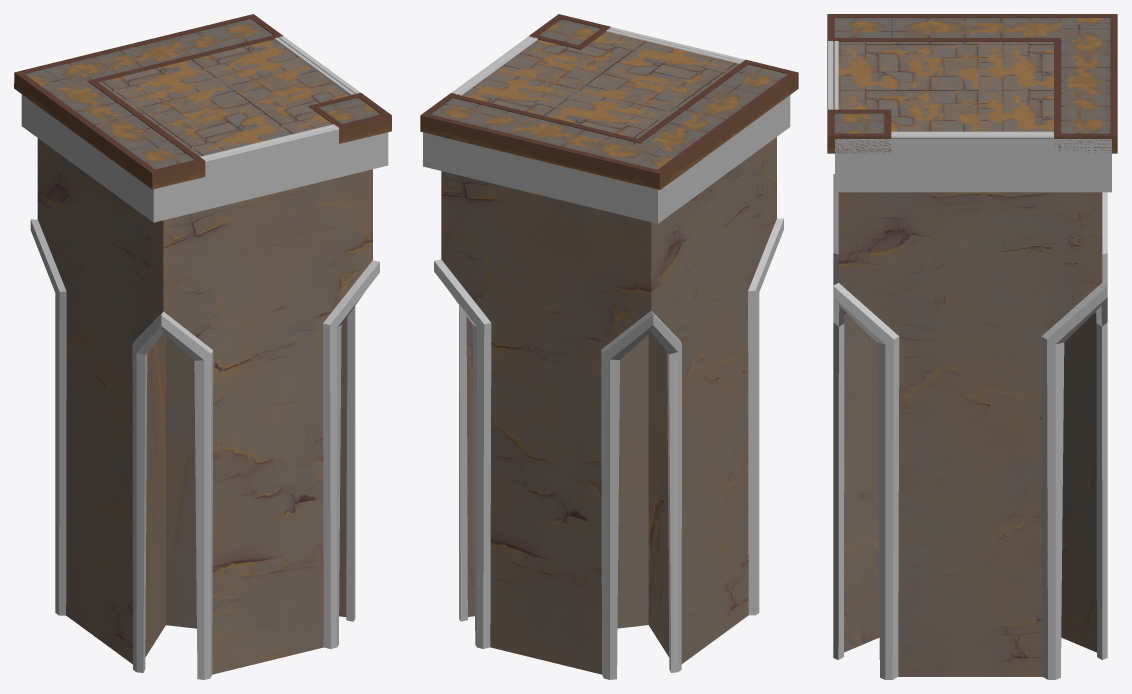
The model's file is prop_Platform_Square.fbx.
The picture shows the model from 3 angles, left to right: view 1: azimuth 30°, elevation 25°; view 2: azimuth 150°, elevation 25°; view 3: azimuth 270°, elevation 25°; orthographic projection. The views are drawn at different scales.
Parts seen in each view (by area): view 1: prop_Platform_Square; view 2: prop_Platform_Square; view 3: prop_Platform_Square.
Part boxes in pixels (x1=…): prop_Platform_Square: x1=14, y1=14, x2=391, y2=679; prop_Platform_Square: x1=420, y1=14, x2=798, y2=679; prop_Platform_Square: x1=827, y1=14, x2=1117, y2=679.
Size of the model in its own units: 872 by 1816 by 872.
